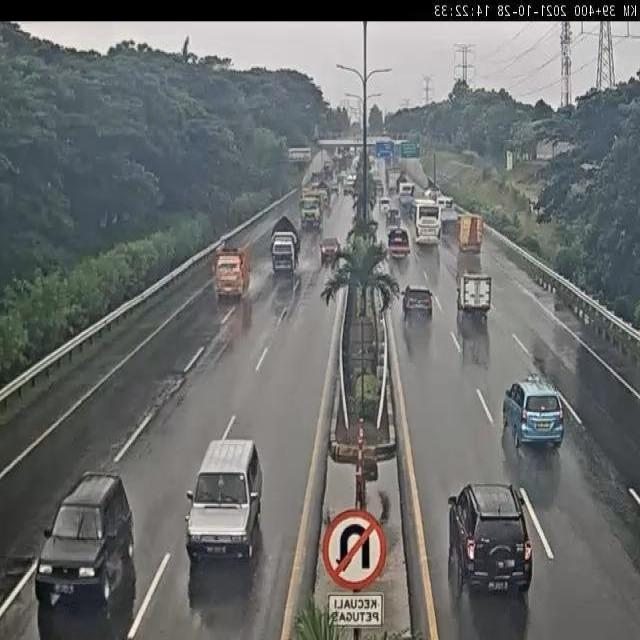Bus: (413, 198, 441, 246)
Car: (36, 469, 137, 606), (446, 482, 532, 598), (184, 437, 263, 561), (492, 369, 578, 455), (402, 285, 433, 321), (387, 226, 411, 258), (319, 237, 340, 264), (398, 191, 416, 218), (386, 205, 401, 225), (372, 176, 383, 198), (344, 173, 357, 191), (379, 196, 391, 214), (438, 195, 453, 209)
Truck: (212, 243, 250, 302), (457, 268, 497, 318), (270, 219, 300, 275), (457, 215, 484, 254), (299, 196, 322, 231), (439, 207, 459, 236)
